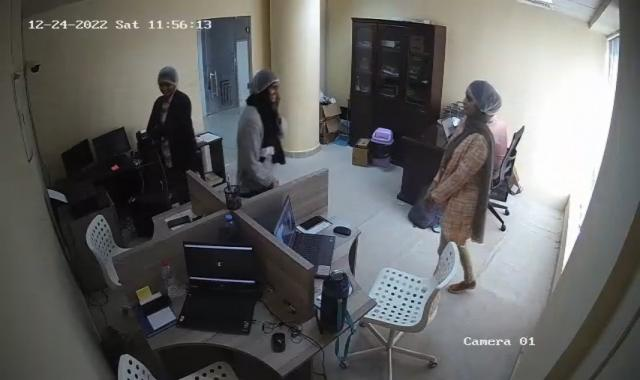hairnet: (462, 79, 502, 120), (247, 68, 281, 105), (156, 64, 178, 95)
